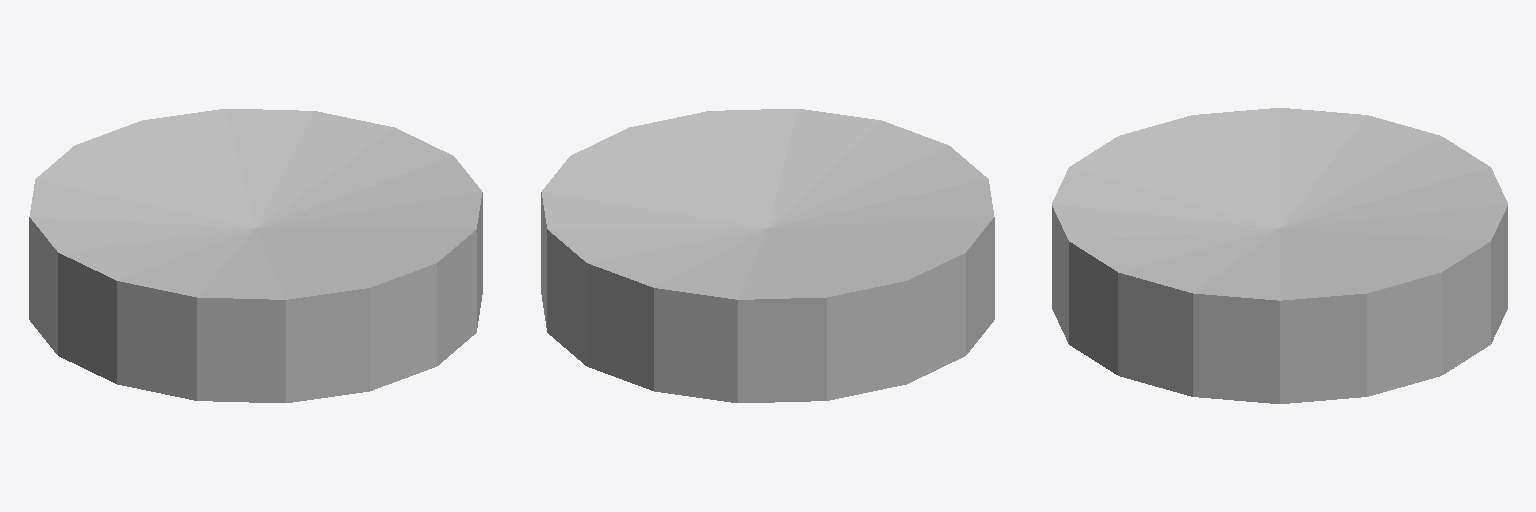
File: editor_controller_button_menu.sgm.obj
The picture shows the model from 3 angles: view 1: azimuth 30°, elevation 25°; view 2: azimuth 150°, elevation 25°; view 3: azimuth 270°, elevation 25°; orthographic projection.
Visible parts, largest first — view 1: 0; view 2: 0; view 3: 0.
Part boxes in pixels (x1,y1,x2,y2): 0: (29, 109, 482, 402); 0: (541, 109, 994, 402); 0: (1052, 108, 1507, 403).
Size of the model in its own units: 0.01 by 0.0025 by 0.01.